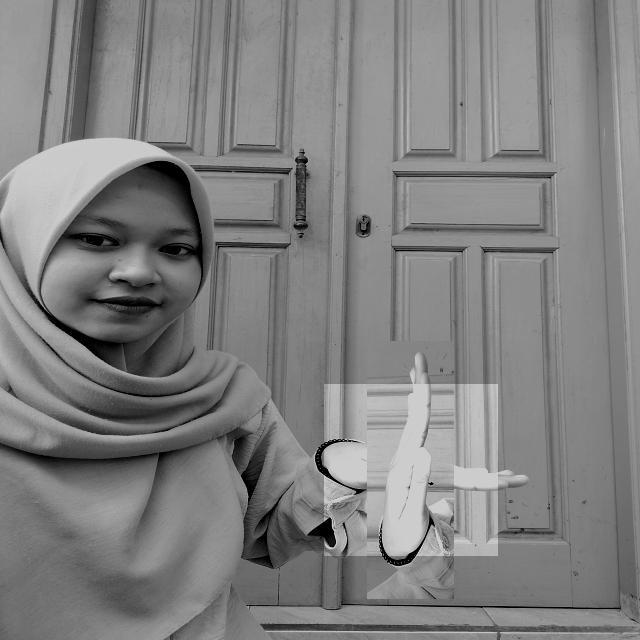adik: (324, 384, 498, 556)
